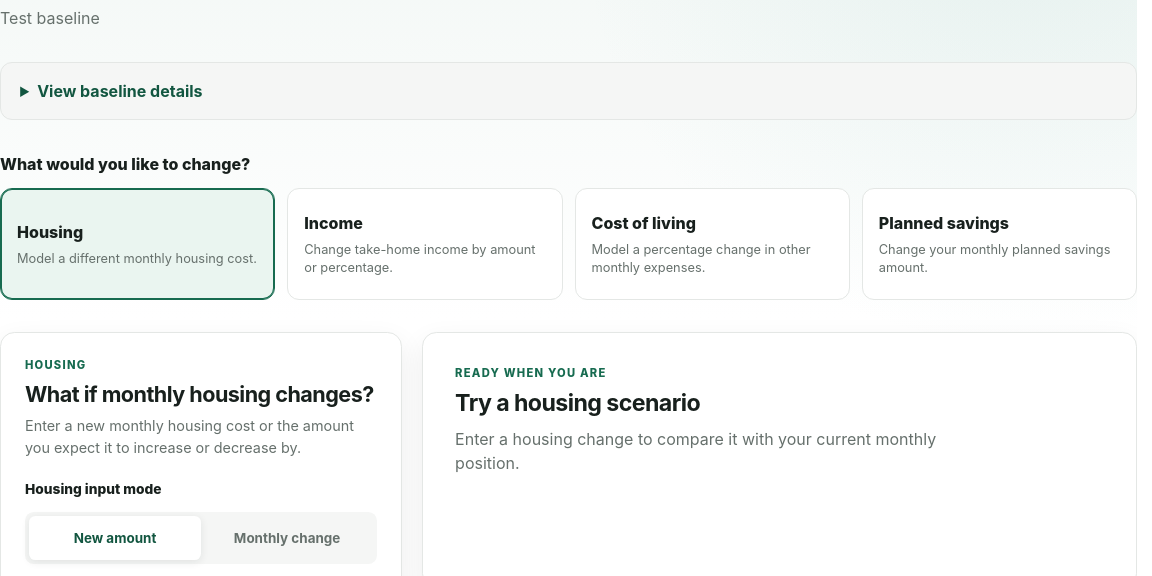
ScenarioLab › supports a housing decrease using signed delta mode
Click the button "Monthly change" at (287, 538), box [201,516,373,560]
(page scrolled)
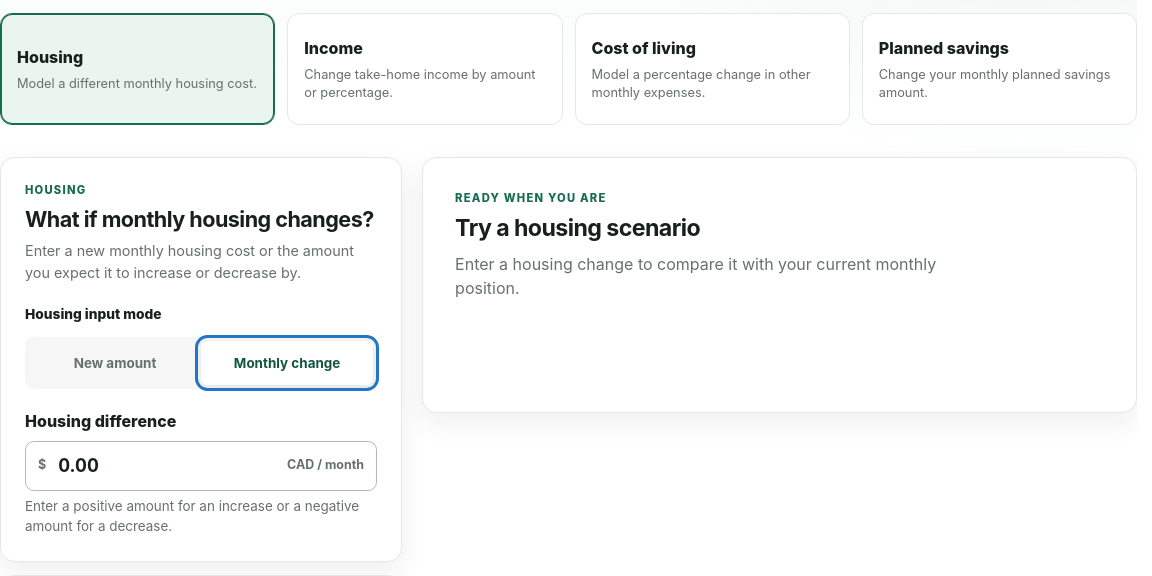
Replace the text in the field labelled "Housing difference" with "-100" at (167, 466), box [58,442,275,490]
(page scrolled)
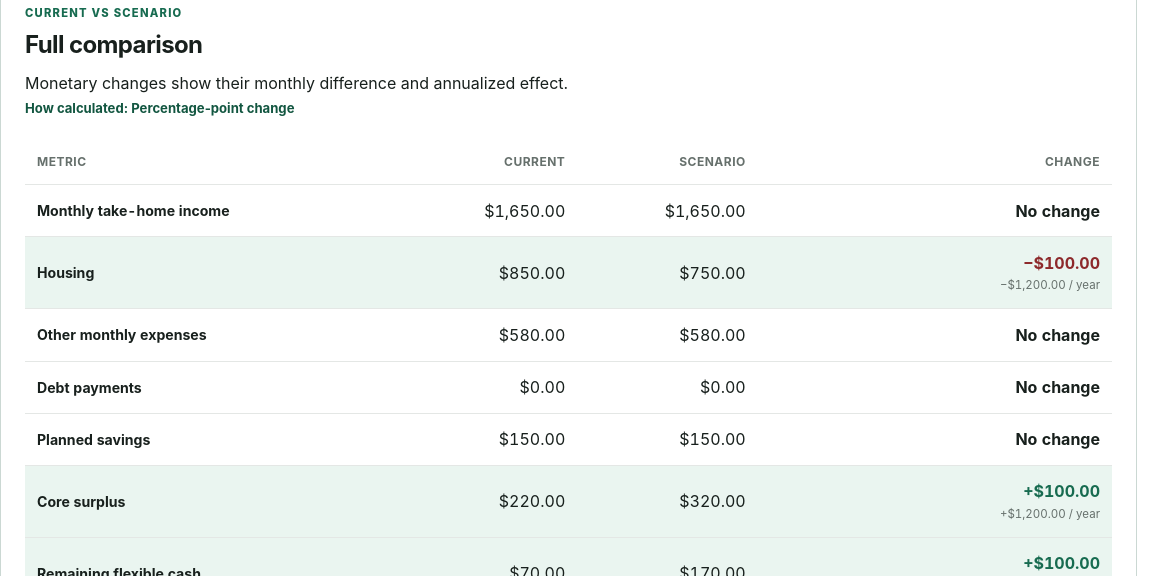
Result: the text "$750.00" is shown at [577,237,758,309]
Result: the text "$320.00" is shown at [577,465,758,537]
Result: the text "−$100.00" is shown at [1023,253,1100,273]
